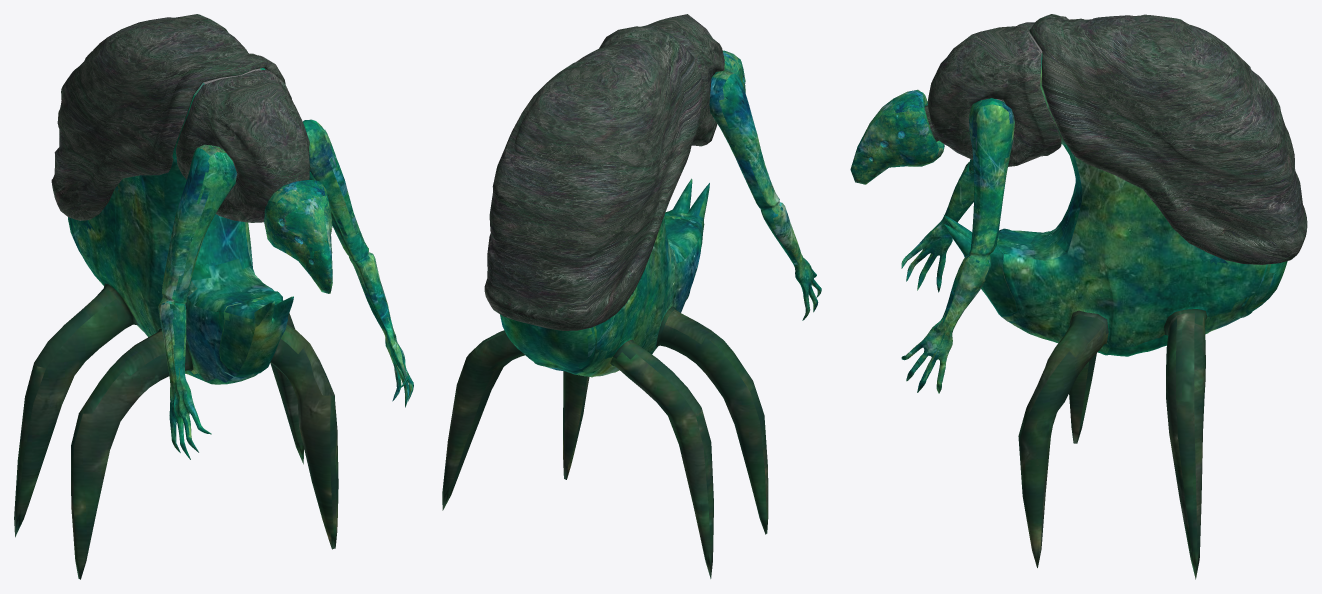
The model's file is Andar.0003.obj.
3 views of the same model, side by side, from view 1: azimuth 30°, elevation 25°; view 2: azimuth 150°, elevation 25°; view 3: azimuth 270°, elevation 25° (orthographic). The views are drawn at different scales.
Parts seen in each view (by area): view 1: pCube14; view 2: pCube14; view 3: pCube14.
Part boxes in pixels (left/top/right/bottom): pCube14: left=14, top=14, right=413, bottom=579; pCube14: left=442, top=14, right=821, bottom=578; pCube14: left=850, top=14, right=1307, bottom=579.
Bounding box in the file's own units: 2.34 × 3.92 × 3.26.
5 materials, 4 textured.
